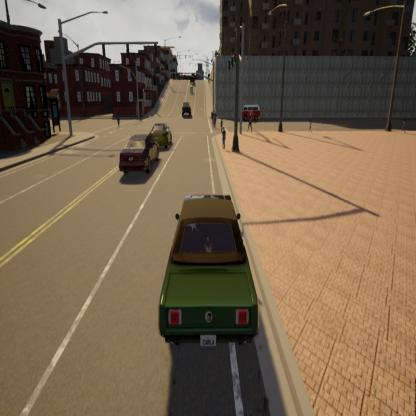Cars: (150, 184, 262, 360), (121, 130, 161, 180), (146, 119, 176, 151), (240, 101, 260, 123), (179, 100, 193, 119), (188, 84, 194, 96), (188, 74, 196, 82)
Pedestrian: (244, 110, 256, 136), (220, 127, 228, 150), (400, 114, 408, 136), (212, 107, 219, 132), (208, 107, 216, 127), (307, 115, 313, 137), (116, 104, 121, 130), (217, 116, 224, 134)
